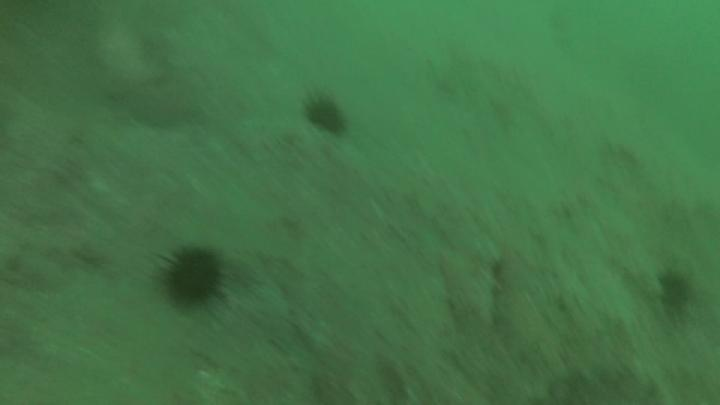echinus: (167, 249, 222, 303), (307, 100, 343, 134), (661, 272, 691, 306)
